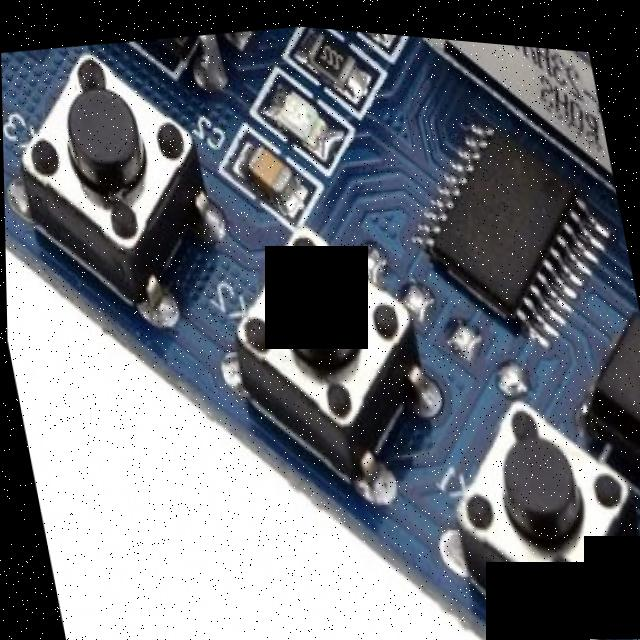2235: (3, 35, 214, 289), (438, 368, 640, 623), (214, 205, 424, 446)
IC: (403, 92, 597, 321)
LED: (265, 67, 325, 143)
capacitor 1V5: (231, 133, 300, 209)
resistor IR1: (300, 21, 359, 88)
